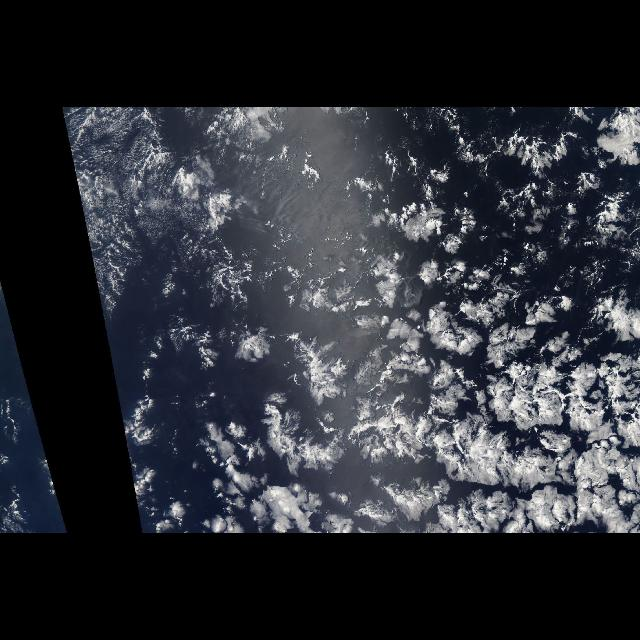Flower: (168, 192, 640, 534)
Sugar: (60, 109, 188, 334)
